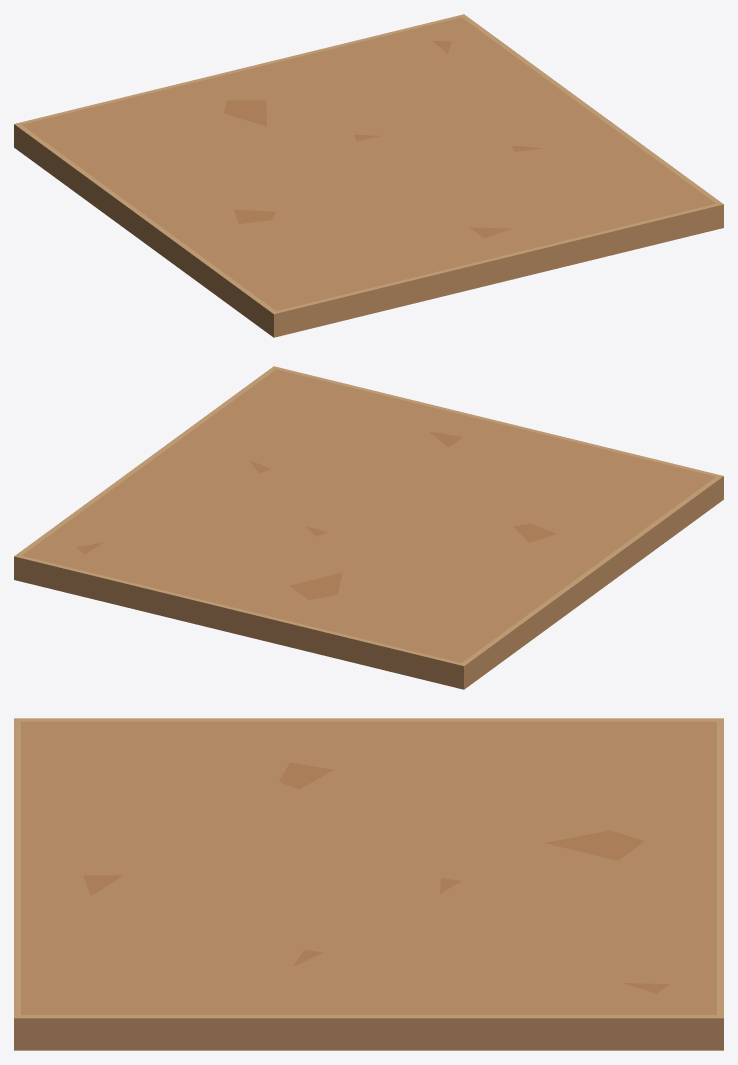
Rendered from ConcrateSlabs_E_1_2.fbx.
3 views of the same model, one above another, from view 1: azimuth 30°, elevation 25°; view 2: azimuth 150°, elevation 25°; view 3: azimuth 270°, elevation 25° (orthographic). The views are drawn at different scales.
Parts seen in each view (by area): view 1: ConcrateSlabs_E_1_2; view 2: ConcrateSlabs_E_1_2; view 3: ConcrateSlabs_E_1_2.
Boxes of the visible parts, <box> form: ConcrateSlabs_E_1_2: <box>14,14,723,337</box>; ConcrateSlabs_E_1_2: <box>14,366,723,689</box>; ConcrateSlabs_E_1_2: <box>14,718,723,1050</box>.
Bounding box in the file's own units: 800 × 40 × 800.
